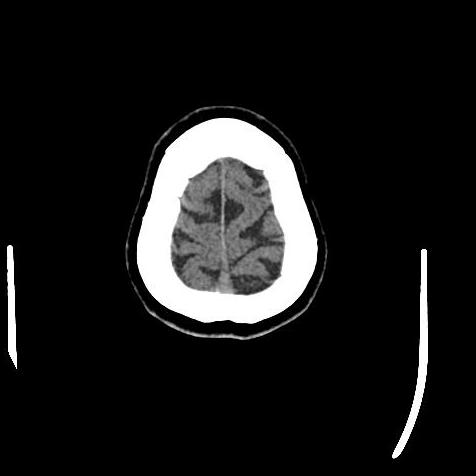Normal_Brain: (128, 107, 333, 335)
